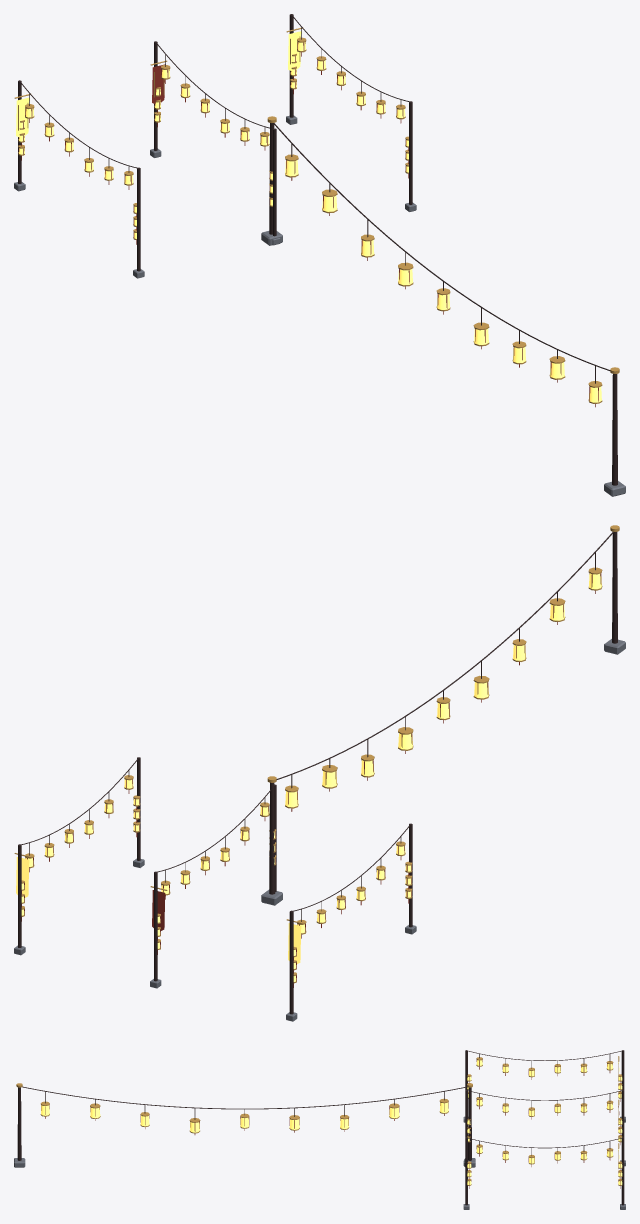
Rendered from model-lantern-array-s2.glb.
The picture shows the model from 3 angles, top to bottom: view 1: azimuth 30°, elevation 25°; view 2: azimuth 150°, elevation 25°; view 3: azimuth 270°, elevation 25°; orthographic projection. The views are drawn at different scales.
Visible parts, largest first — view 1: model-lantern-array-s2; view 2: model-lantern-array-s2; view 3: model-lantern-array-s2.
Part boxes in pixels (bbox=[...]): model-lantern-array-s2: bbox=[14, 14, 625, 496]; model-lantern-array-s2: bbox=[14, 525, 625, 1021]; model-lantern-array-s2: bbox=[14, 1050, 625, 1209].
Bounding box in the file's own units: 12.72 × 5.2 × 35.6.
